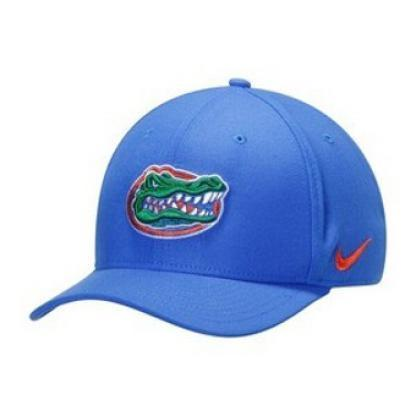cap: (22, 70, 389, 342)
